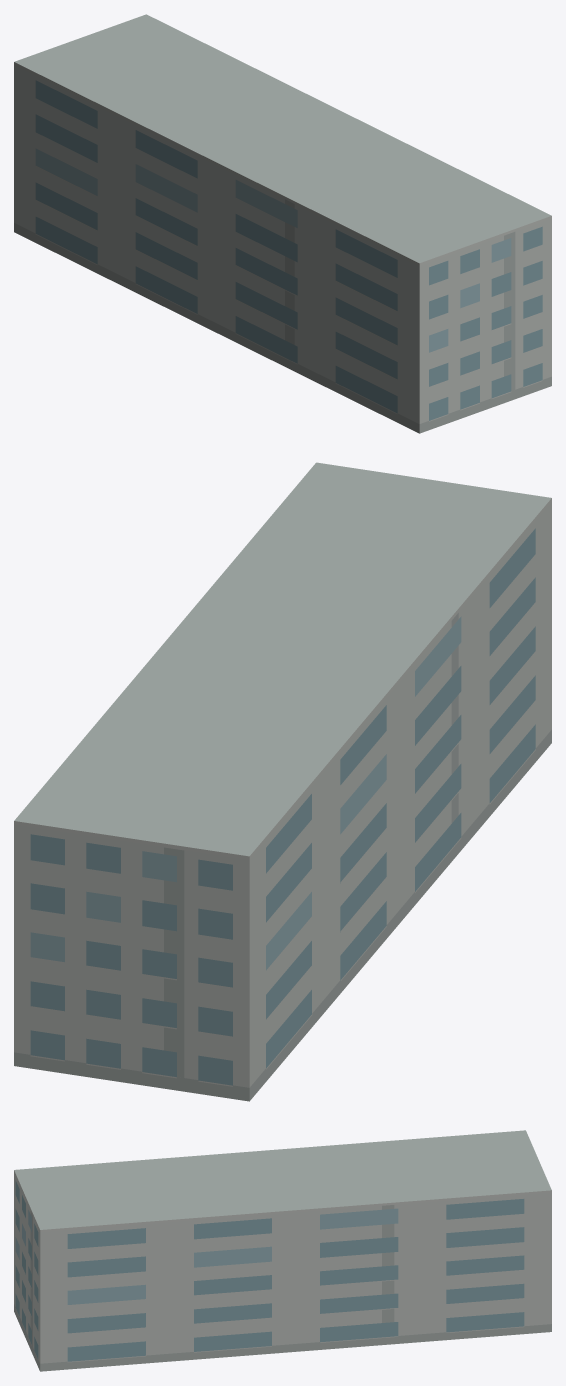
The model's file is residential-f266496d-e74e-4880-b653-9a3d1ec4f7eb.glb.
3 views of the same model, one above another, from view 1: azimuth 30°, elevation 25°; view 2: azimuth 150°, elevation 25°; view 3: azimuth 270°, elevation 25° (orthographic). The views are drawn at different scales.
Visible parts, largest first — view 1: residential-f266496d-e74e-4880-b653-9a3d1ec4f7eb.tmp; view 2: residential-f266496d-e74e-4880-b653-9a3d1ec4f7eb.tmp; view 3: residential-f266496d-e74e-4880-b653-9a3d1ec4f7eb.tmp.
Part boxes in pixels (box(x1,y1,x2,y2)): residential-f266496d-e74e-4880-b653-9a3d1ec4f7eb.tmp: box(14, 14, 551, 433); residential-f266496d-e74e-4880-b653-9a3d1ec4f7eb.tmp: box(14, 462, 551, 1101); residential-f266496d-e74e-4880-b653-9a3d1ec4f7eb.tmp: box(14, 1130, 551, 1371).
Bounding box in the file's own units: 23.03 × 15.25 × 52.5.
